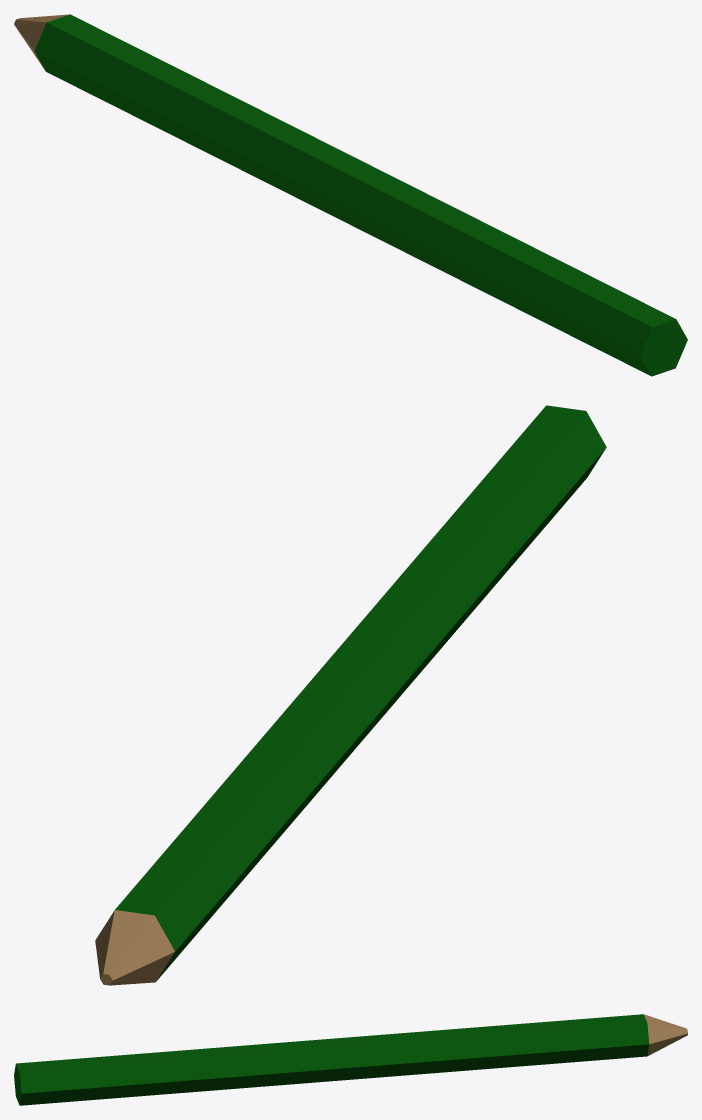
File: Pencil.glb
The picture shows the model from 3 angles, top to bottom: view 1: azimuth 30°, elevation 25°; view 2: azimuth 150°, elevation 25°; view 3: azimuth 270°, elevation 25°; orthographic projection. The views are drawn at different scales.
Parts seen in each view (by area): view 1: Pencil, PencilTip; view 2: Pencil, PencilTip; view 3: Pencil, PencilTip.
Part boxes in pixels (left/top/right/bottom): Pencil: left=34, top=14, right=687, bottom=376; PencilTip: left=14, top=14, right=69, bottom=69; Pencil: left=115, top=405, right=606, bottom=980; PencilTip: left=95, top=910, right=174, bottom=985; Pencil: left=14, top=1014, right=649, bottom=1105; PencilTip: left=644, top=1014, right=687, bottom=1056.
Bounding box in the file's own units: 0.7296 × 0.182 × 3.17.
